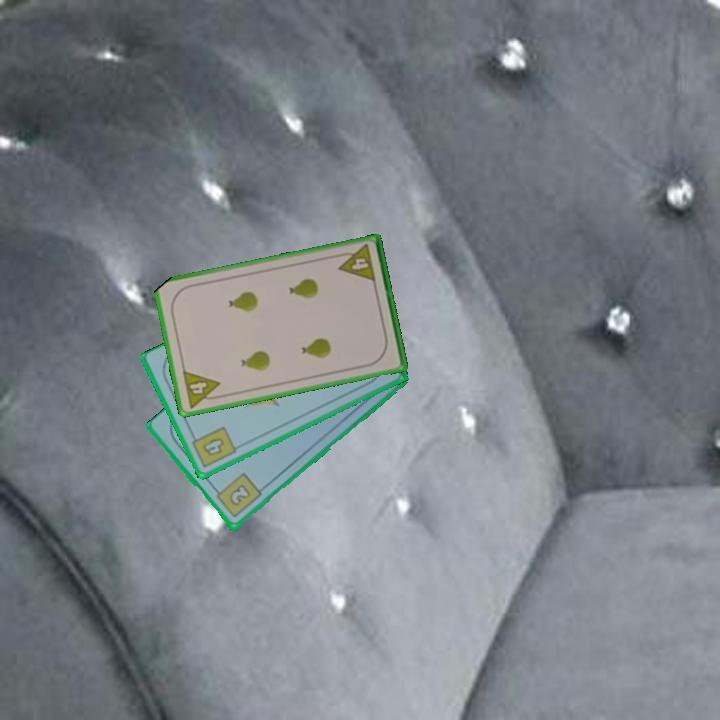2b: (211, 470, 264, 521)
4b: (187, 423, 240, 471)
4p: (179, 367, 225, 411), (333, 241, 378, 285)
